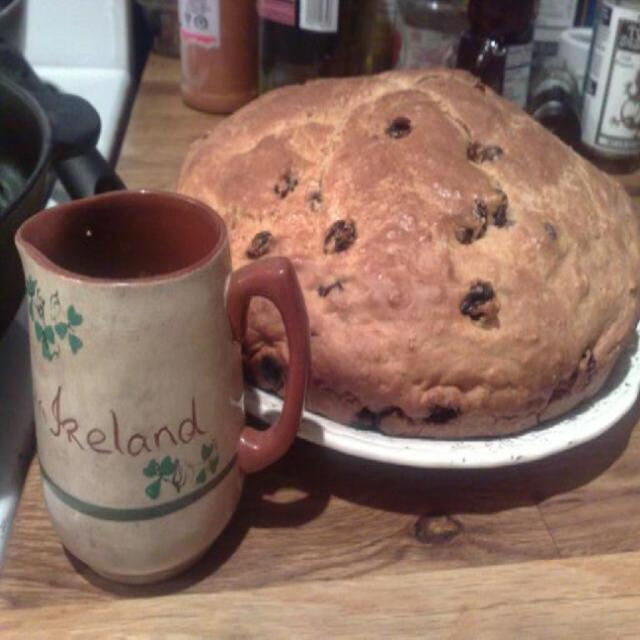Bread: (188, 77, 630, 455)
